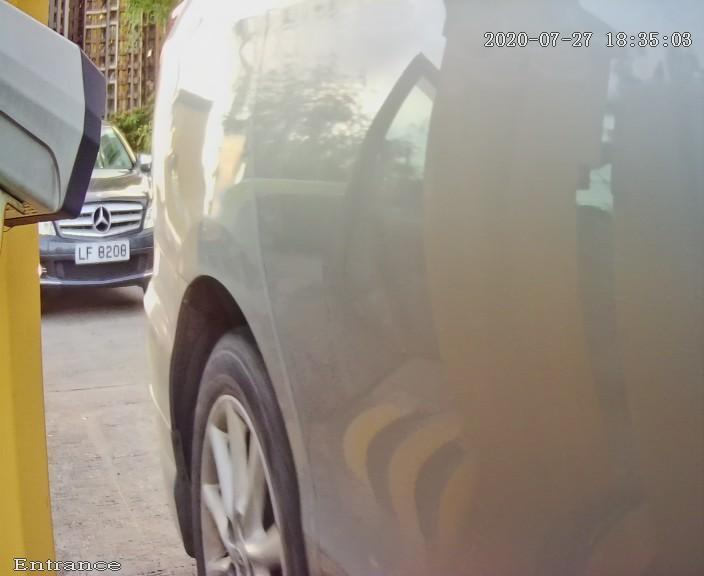privatecar: (150, 19, 704, 522), (21, 95, 173, 302)
